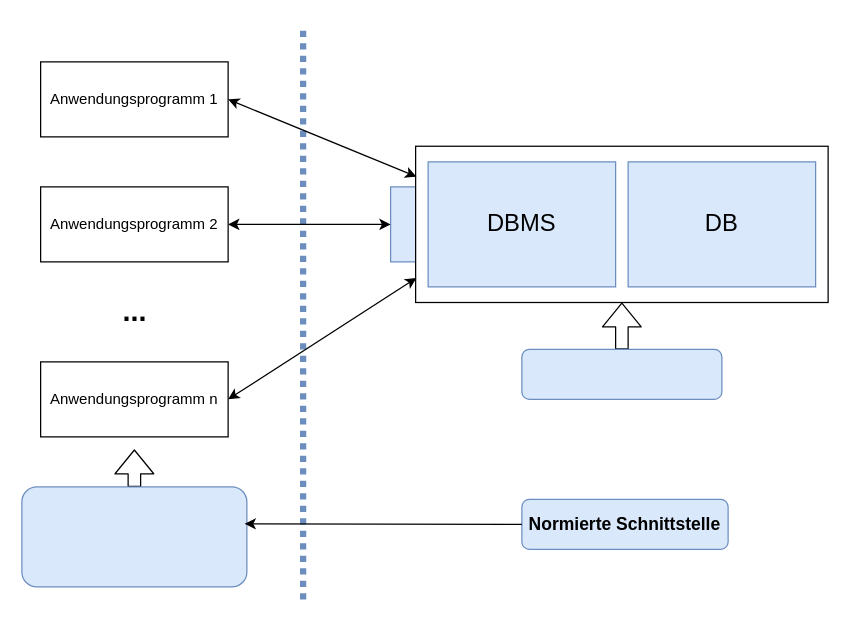
Some shapes in this 850 by 625 pixel diagram are drawn without their labels. The shapes that lost their labels are listed below. From the top down, each one's box as (x1, y1, x2, y2) in pixels, then its label:
(521, 348, 722, 399): Datenbanksystem
(21, 486, 247, 587): Die Anwendungssysteme kennen nur die Anfragesprache des DBMS
